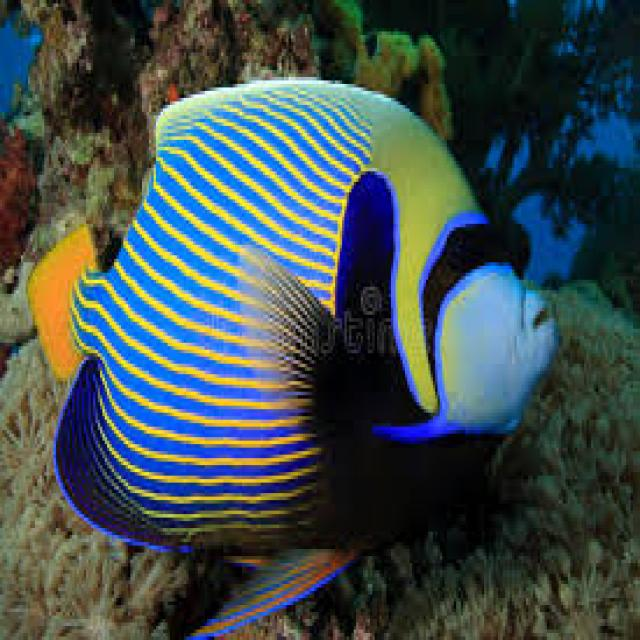AngelFish: (34, 83, 556, 635)
